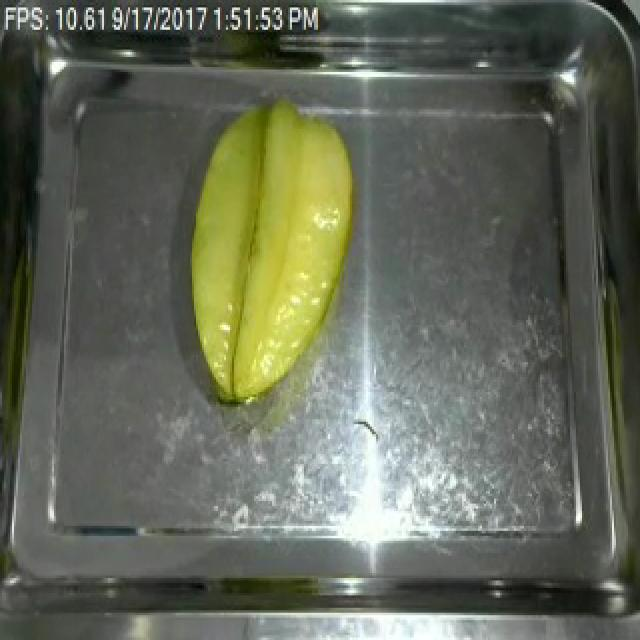fruit: (174, 87, 368, 417)
